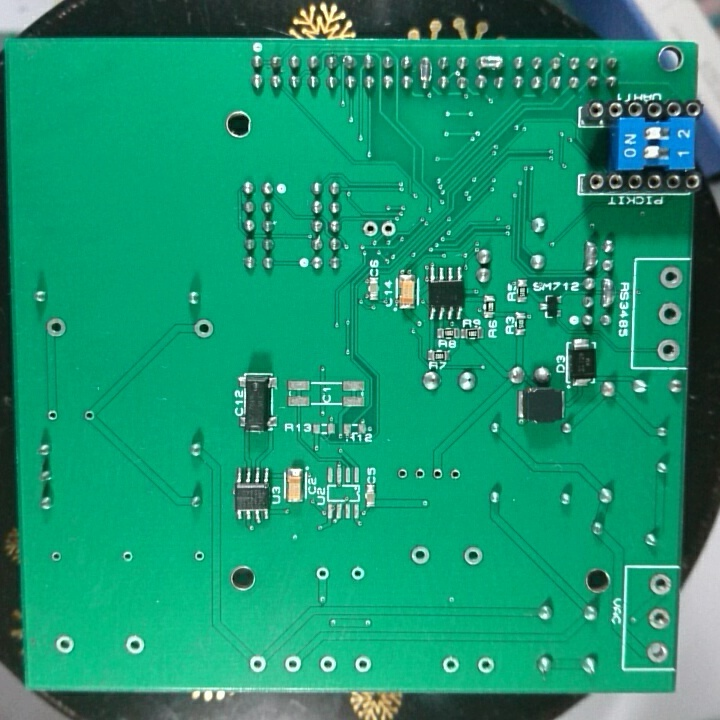F: (657, 264, 686, 292), (657, 300, 684, 329), (42, 315, 69, 343), (648, 572, 674, 599), (645, 638, 671, 665), (123, 631, 148, 658), (656, 337, 682, 362), (646, 606, 671, 632), (191, 315, 215, 342), (408, 544, 434, 567), (247, 652, 271, 676), (53, 633, 77, 657), (281, 652, 303, 678), (462, 543, 484, 569), (317, 652, 338, 676), (475, 655, 497, 677), (440, 654, 461, 677), (353, 653, 372, 675), (379, 218, 397, 241), (359, 219, 379, 239), (313, 564, 333, 583), (119, 546, 137, 566), (42, 406, 60, 426), (349, 564, 367, 583), (445, 465, 464, 483), (413, 464, 428, 486), (48, 549, 67, 566), (191, 547, 208, 565), (429, 465, 446, 483), (80, 406, 97, 424), (394, 464, 410, 482)
P: (417, 54, 434, 93), (474, 52, 507, 72), (582, 237, 599, 272), (599, 275, 616, 310)
